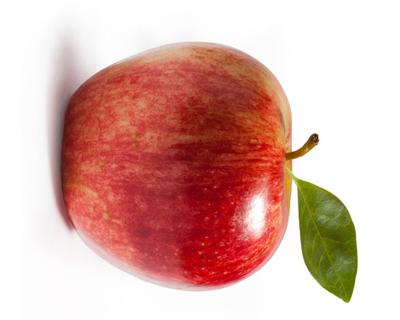apple: (0, 0, 400, 320)
